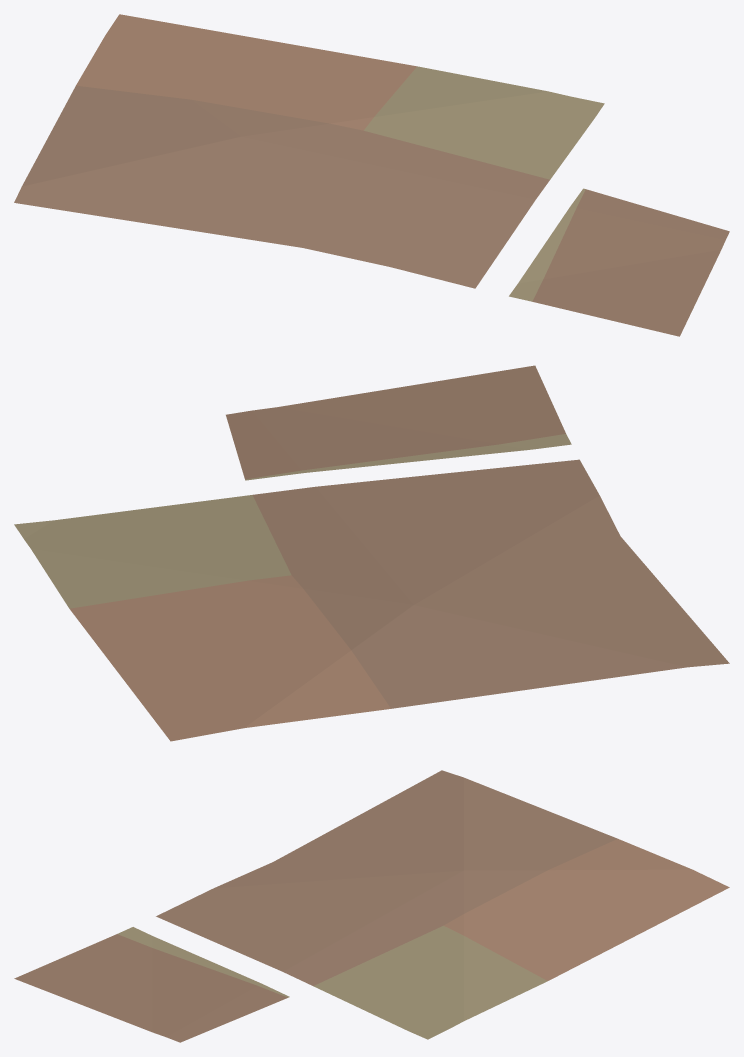
Rendered from farm_18_22_soil.glb.
The picture shows the model from 3 angles, top to bottom: view 1: azimuth 30°, elevation 25°; view 2: azimuth 150°, elevation 25°; view 3: azimuth 270°, elevation 25°; orthographic projection. The views are drawn at different scales.
Parts seen in each view (by area): view 1: geometry_0; view 2: geometry_0; view 3: geometry_0.
Part boxes in pixels (x1=…): geometry_0: x1=14, y1=14, x2=729, y2=336; geometry_0: x1=14, y1=365, x2=729, y2=741; geometry_0: x1=14, y1=770, x2=729, y2=1042.
Bounding box in the file's own units: 145 × 12.54 × 184.
